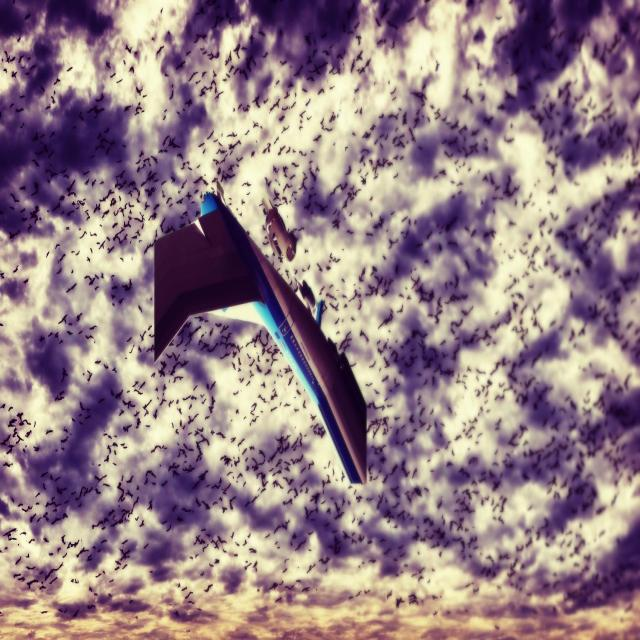airplane: (152, 183, 368, 486)
